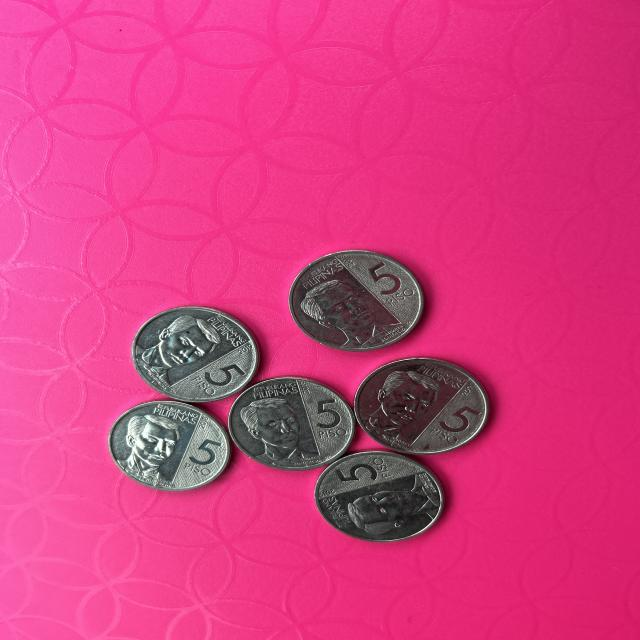5_New_Front: (353, 256, 413, 315), (426, 390, 487, 440), (188, 360, 255, 403), (304, 394, 354, 446), (325, 453, 401, 486), (184, 437, 222, 480)
